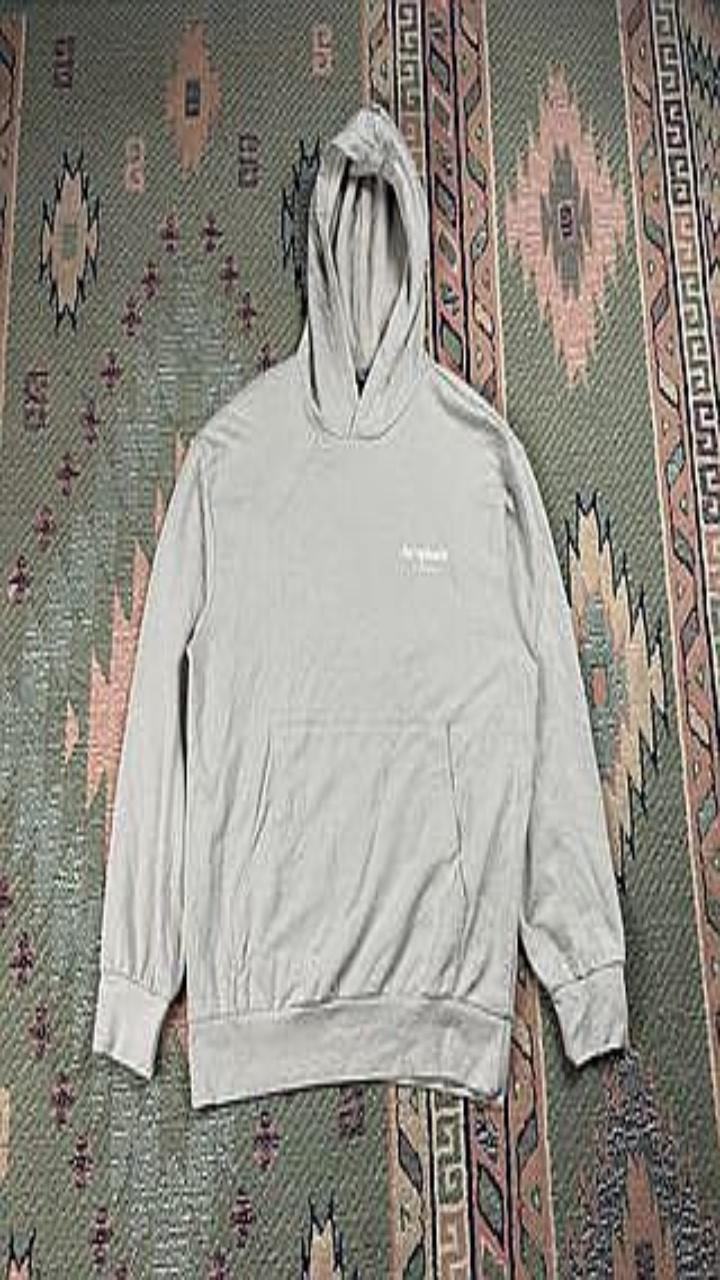Hoodie: (93, 106, 628, 1107)
